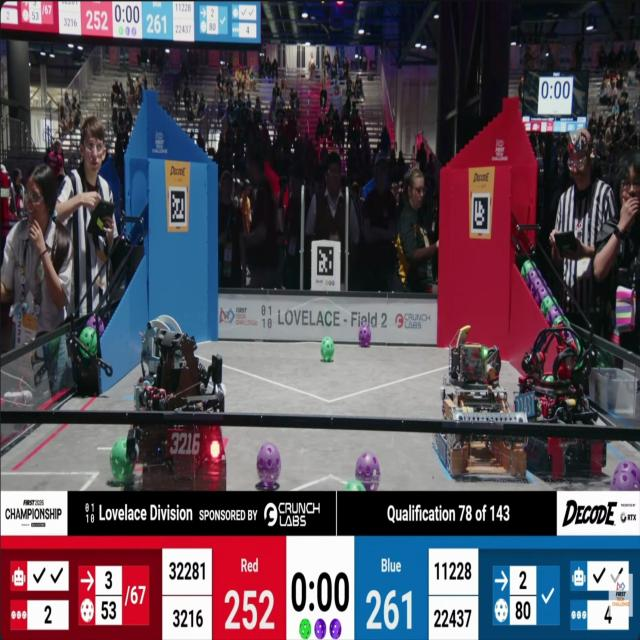artifact_green: (110, 438, 135, 481), (79, 327, 97, 358), (597, 349, 615, 368), (321, 337, 334, 362), (541, 296, 556, 317), (521, 260, 534, 278), (345, 480, 366, 491), (300, 619, 311, 639), (553, 316, 570, 327), (49, 338, 61, 352), (551, 295, 559, 308), (543, 375, 555, 382), (537, 400, 542, 416)
artifact_purple: (257, 443, 281, 486), (356, 453, 380, 491), (611, 461, 639, 490), (87, 316, 104, 337), (536, 284, 550, 306), (547, 306, 562, 326), (359, 324, 371, 347), (530, 278, 543, 297), (526, 269, 539, 288), (315, 619, 326, 639), (330, 619, 341, 639)
